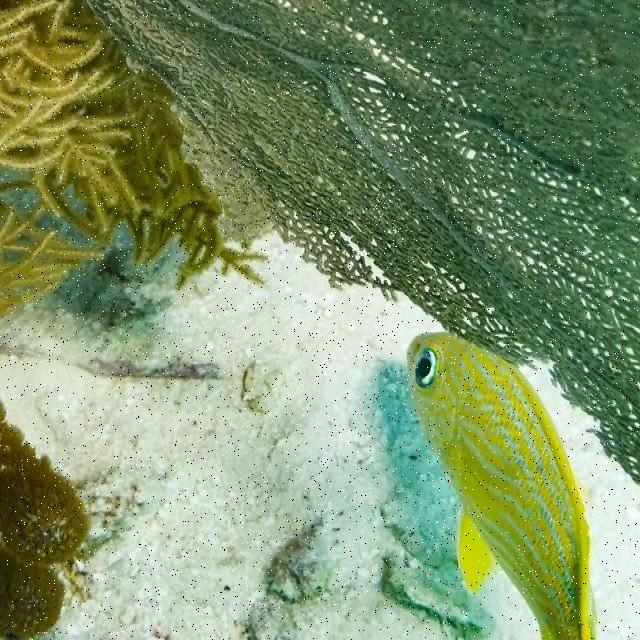aquatic plants: (87, 0, 639, 483), (0, 399, 92, 639)
fish: (406, 331, 599, 639)
